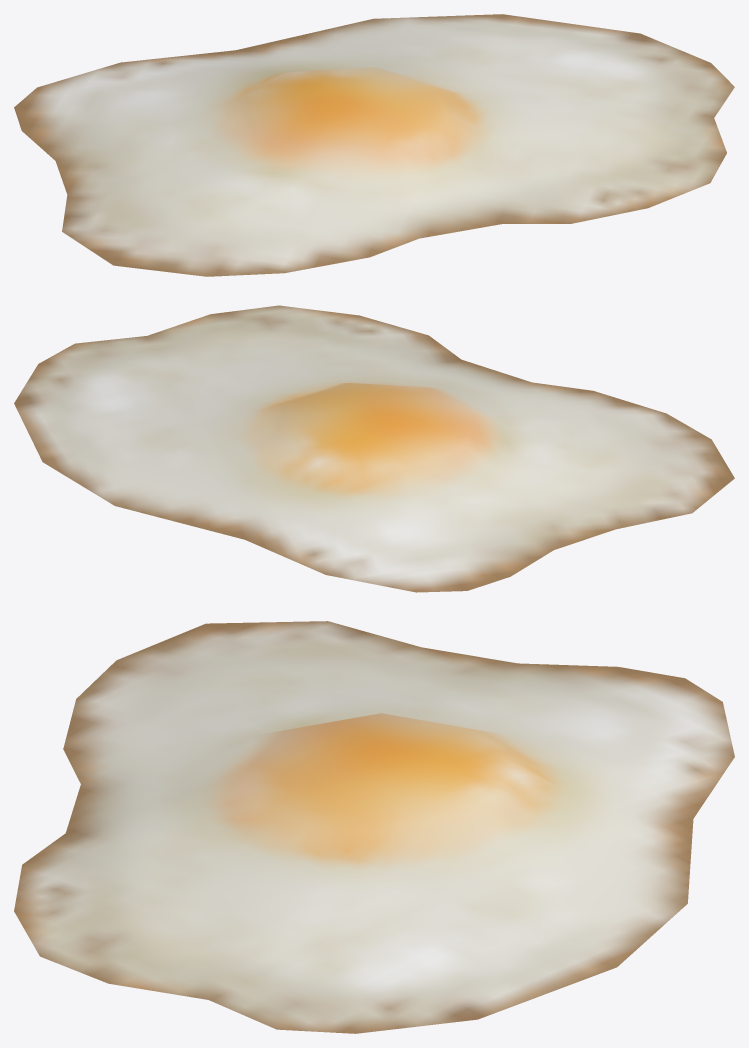
Rendered from jsf_FriedEgg_01.fbx.
3 views of the same model, one above another, from view 1: azimuth 30°, elevation 25°; view 2: azimuth 150°, elevation 25°; view 3: azimuth 270°, elevation 25° (orthographic). The views are drawn at different scales.
Parts seen in each view (by area): view 1: jsf_FriedEgg_01; view 2: jsf_FriedEgg_01; view 3: jsf_FriedEgg_01.
Boxes of the visible parts, box(x1,y1,x2,y2) form: jsf_FriedEgg_01: box(14, 14, 734, 276); jsf_FriedEgg_01: box(14, 305, 734, 592); jsf_FriedEgg_01: box(14, 621, 734, 1033).
Bounding box in the file's own units: 12.05 × 0.7141 × 8.9.
